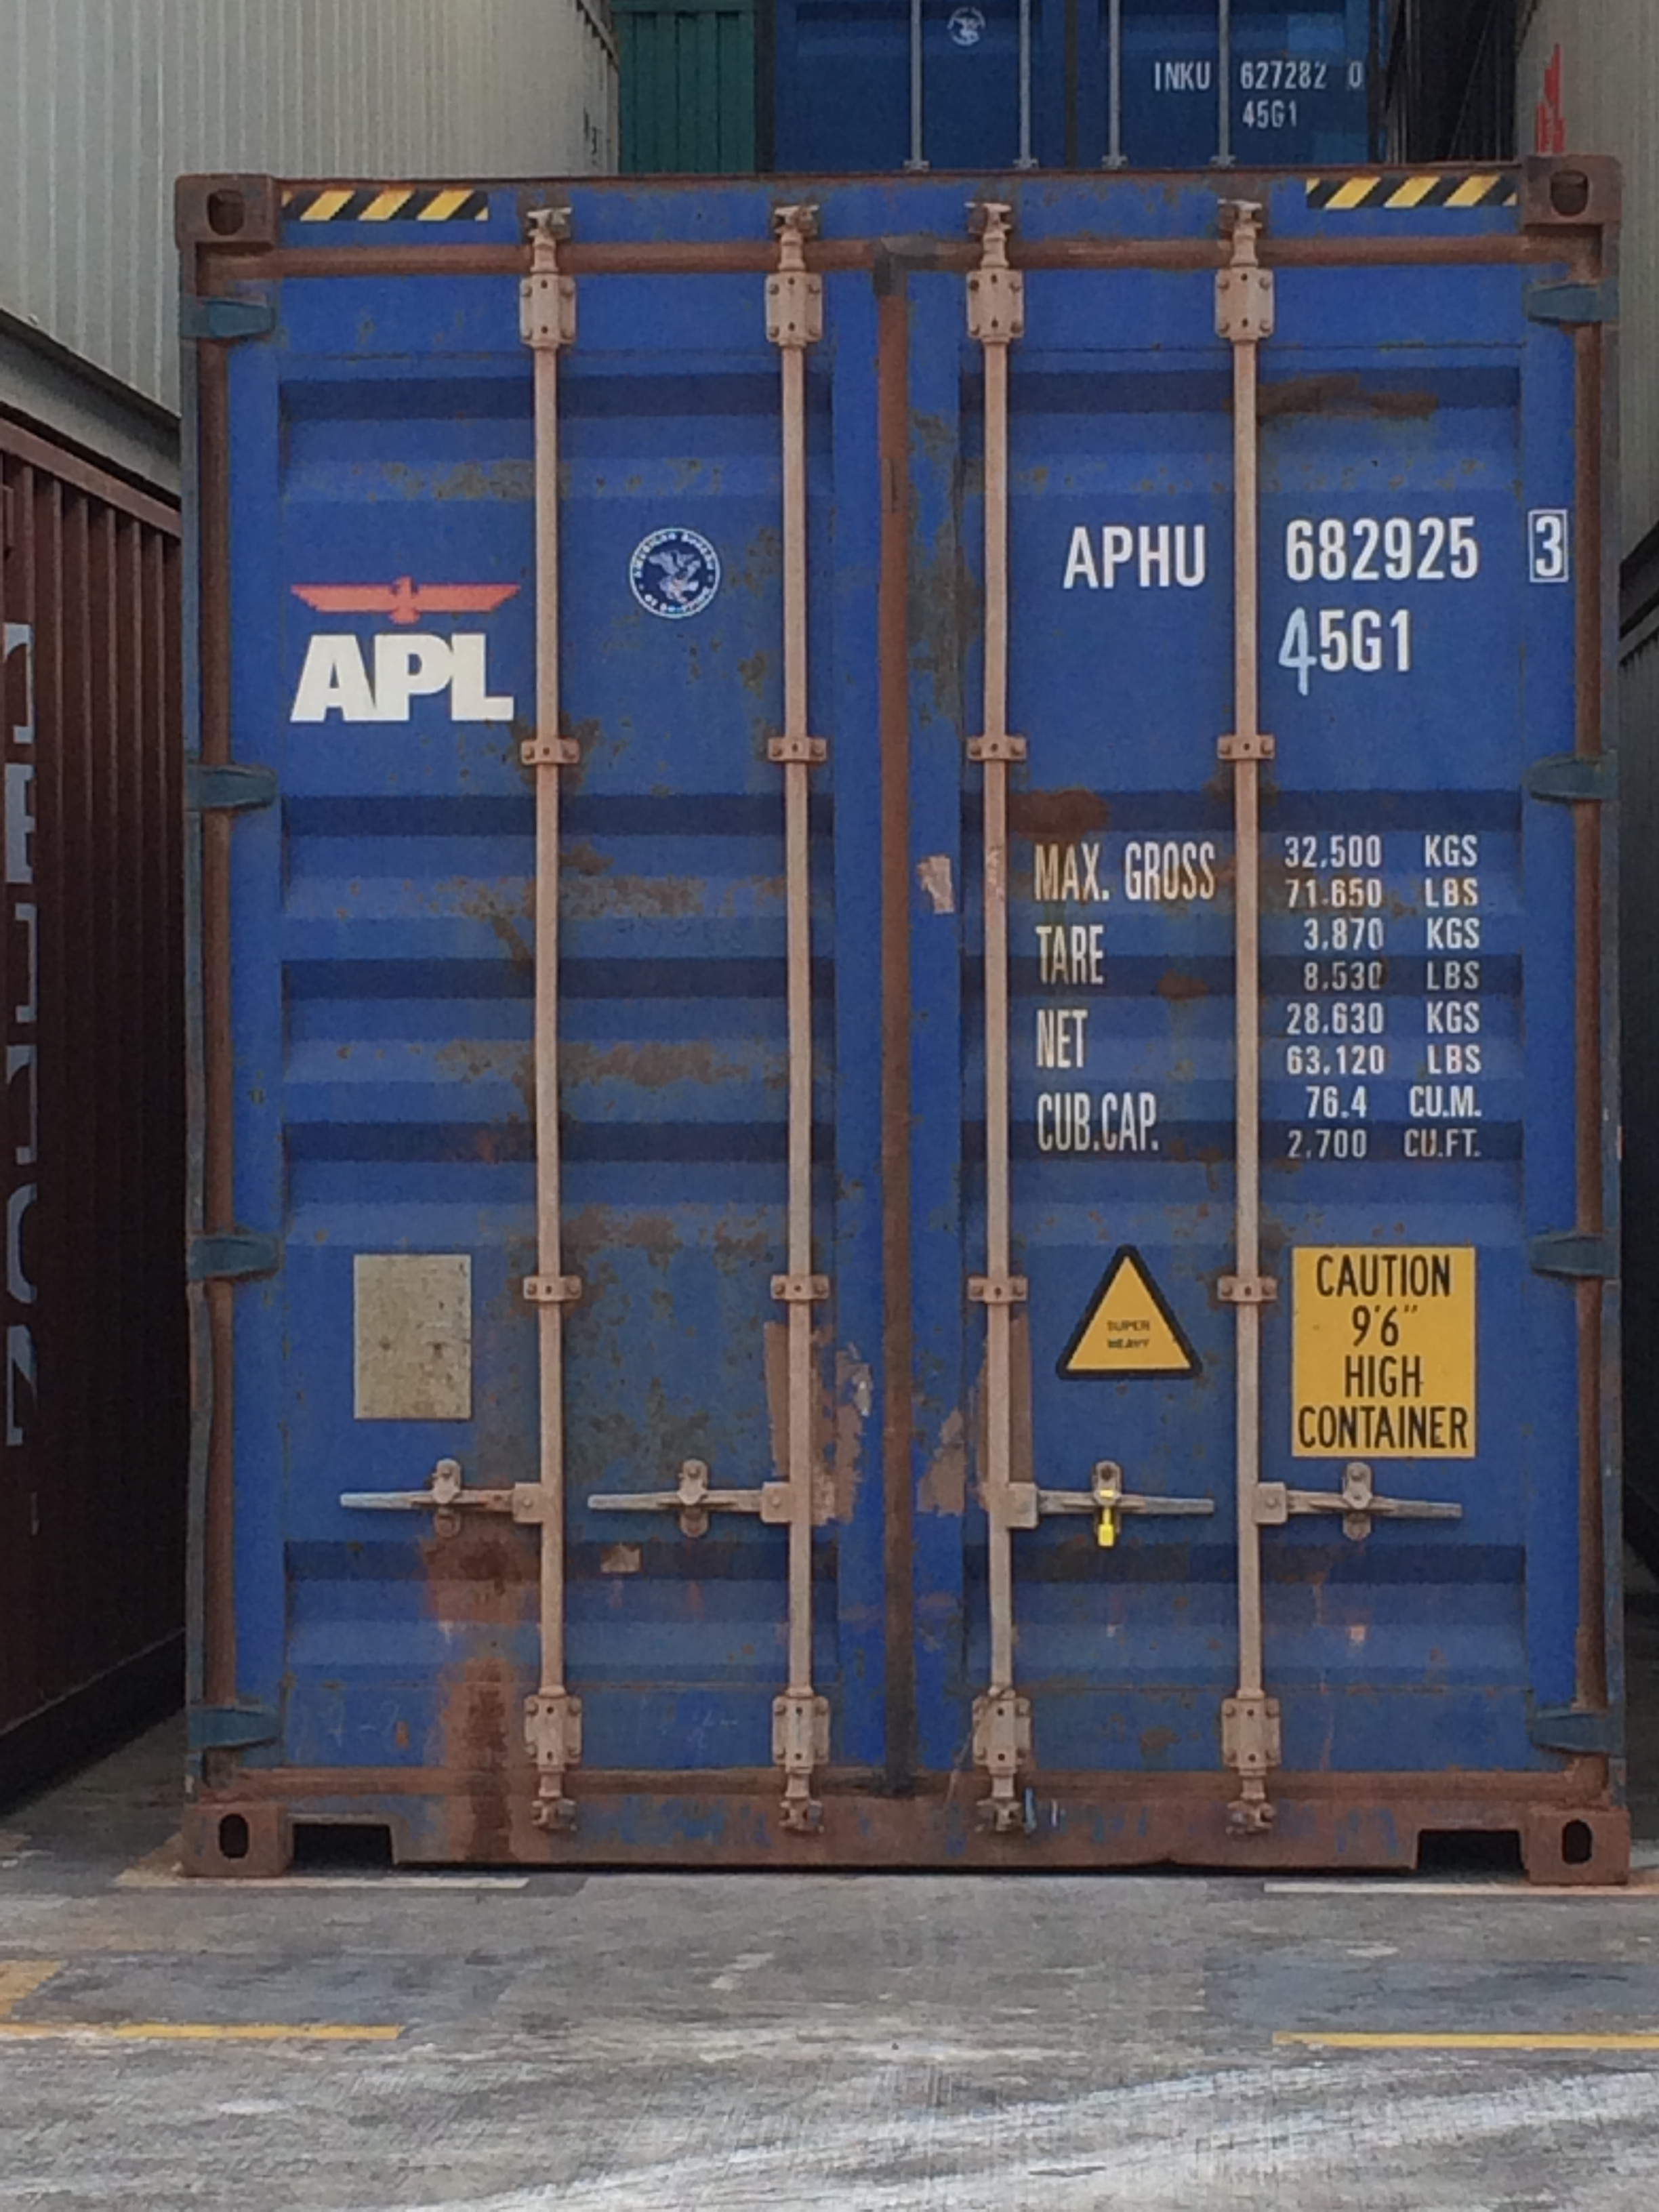container_door: (167, 165, 1640, 1876)
